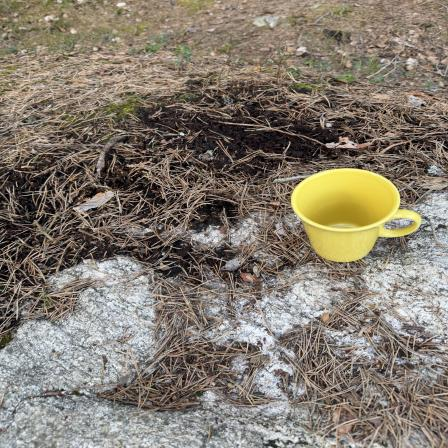yellow_cup: (289, 167, 422, 263)
